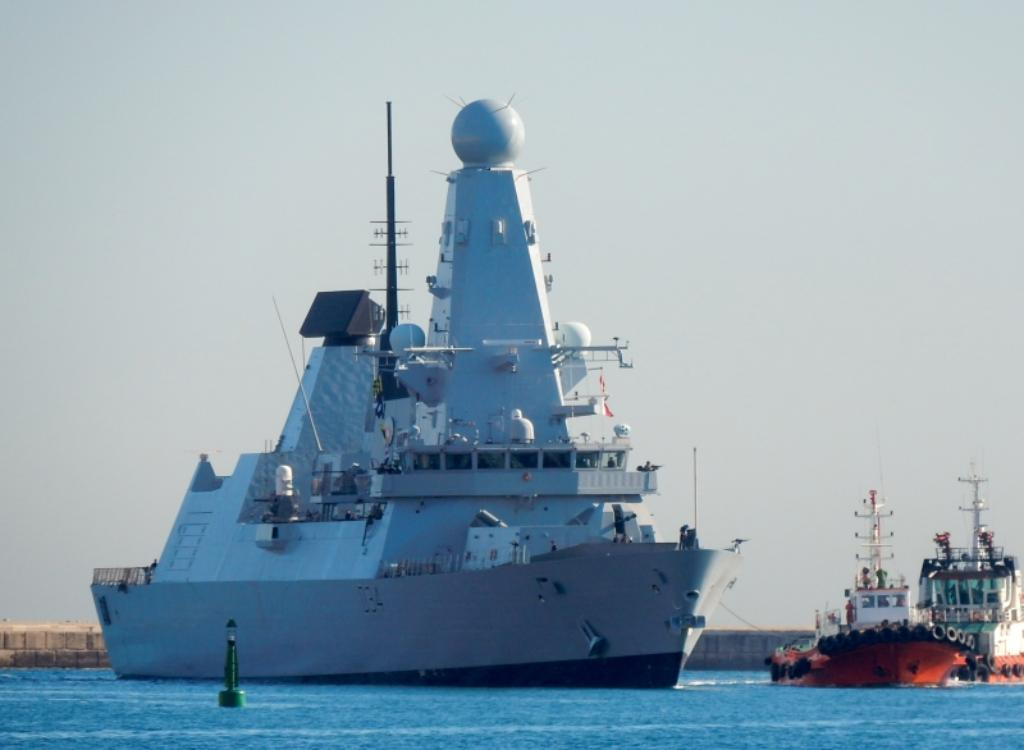Warship: (84, 87, 750, 692)
